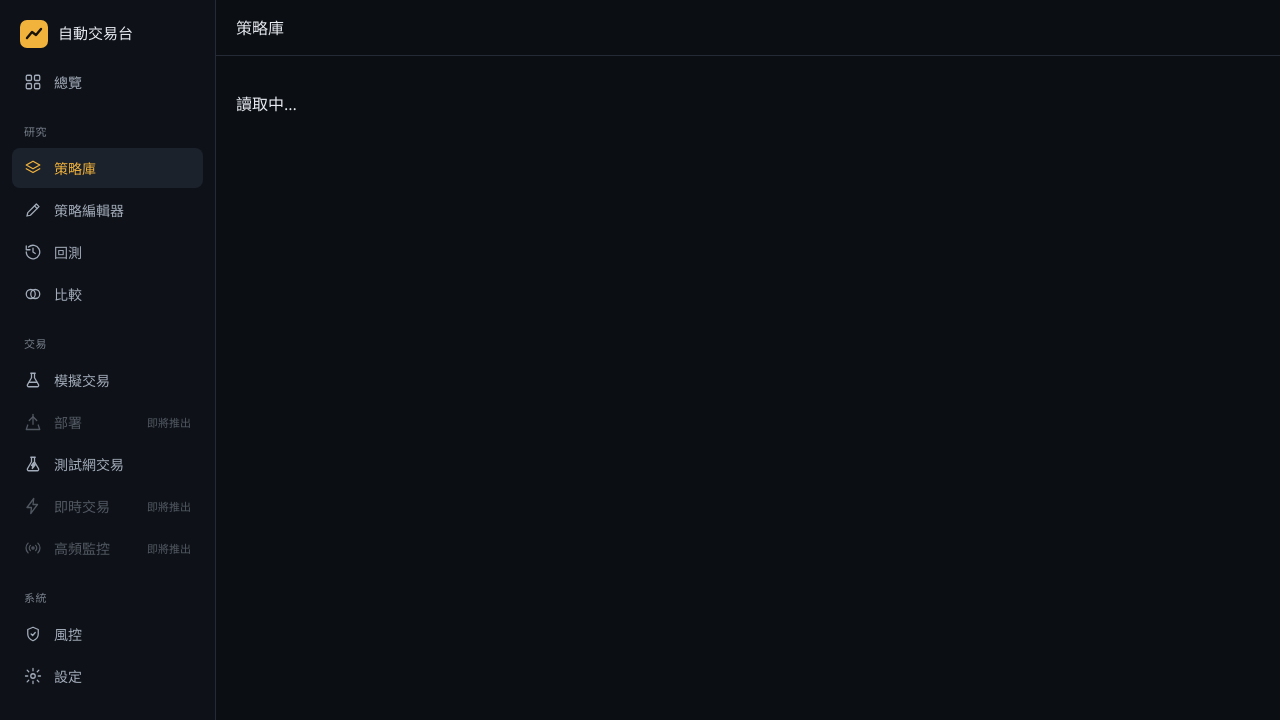
App › 點擊「風控」切換到風控頁，顯示熔斷規則與觸發紀錄
Click the button "風控": click(108, 634) 12,614 -> 203,654
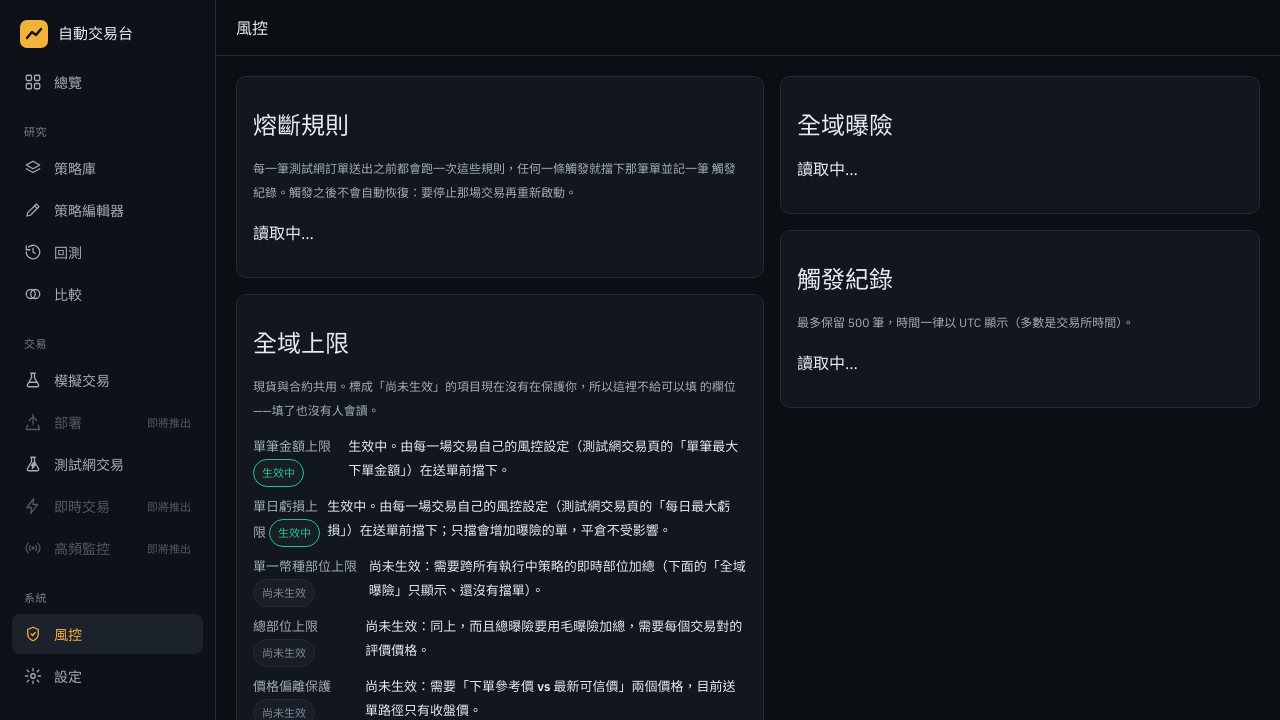
Result: the heading "風控" is shown at 236,16 -> 268,40
Result: the heading "熔斷規則" is shown at 253,109 -> 349,141
Result: the heading "觸發紀錄" is shown at 797,263 -> 893,295
